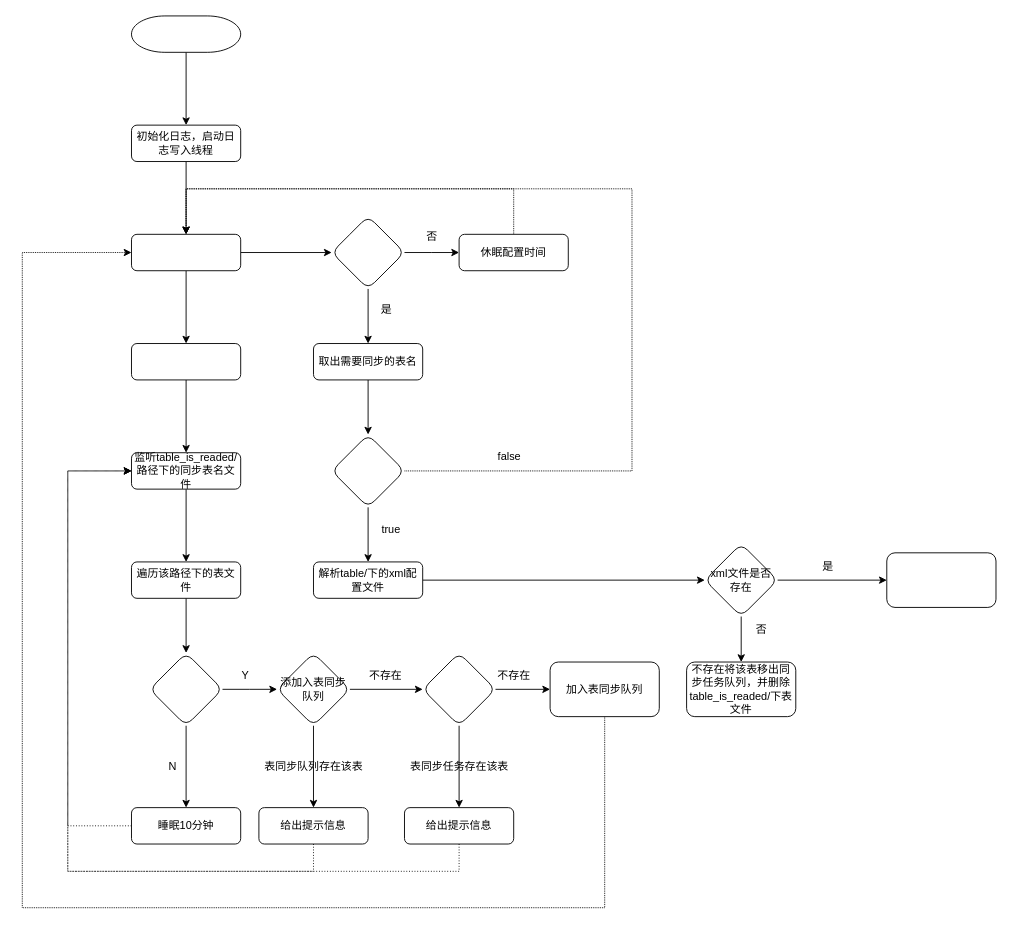
Some shapes in this 1012 by 931 pixel diagram are drawn without their labels. The box of each missing label's shape, as (x1, y1, x2, y2) in pixels:
ScheduledThreadPool同步任务放入线程池，启动线程: (131, 233, 241, 271)
同步任务队列是否存在该表: (422, 652, 495, 726)
启动监听HDFS线程: (131, 343, 241, 380)
开始: (131, 15, 241, 52)
表同步队列是否存在需要同步的表: (331, 215, 404, 289)
表名!=null && 添加同步任务队列成功: (331, 434, 404, 507)
读取文件判断同步标记: (149, 652, 222, 726)
